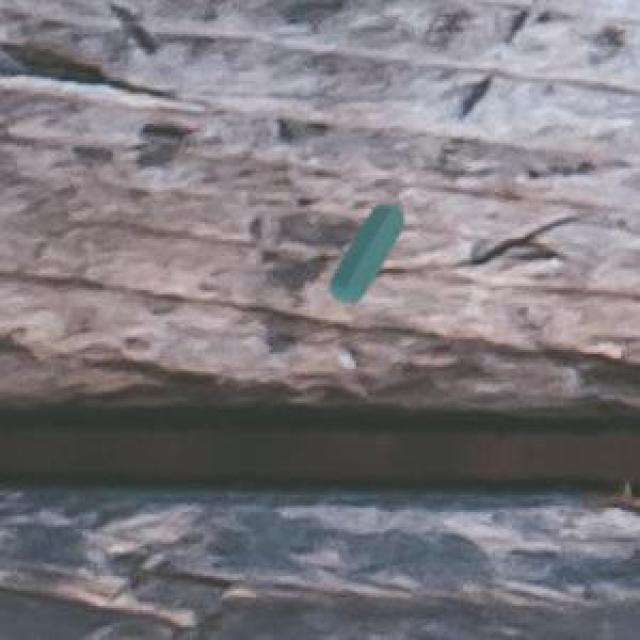Bioflu: (320, 190, 414, 322)
